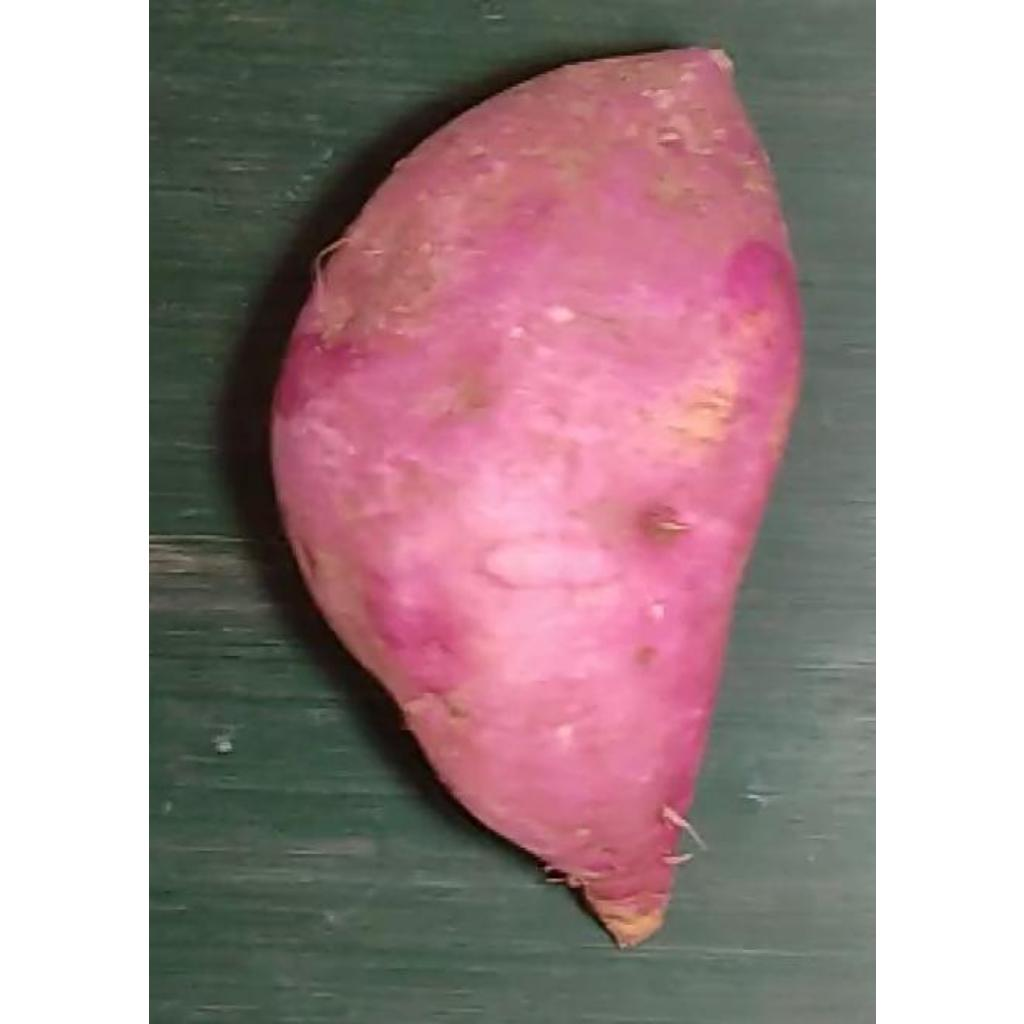Sweet Potato: (269, 46, 804, 951)
